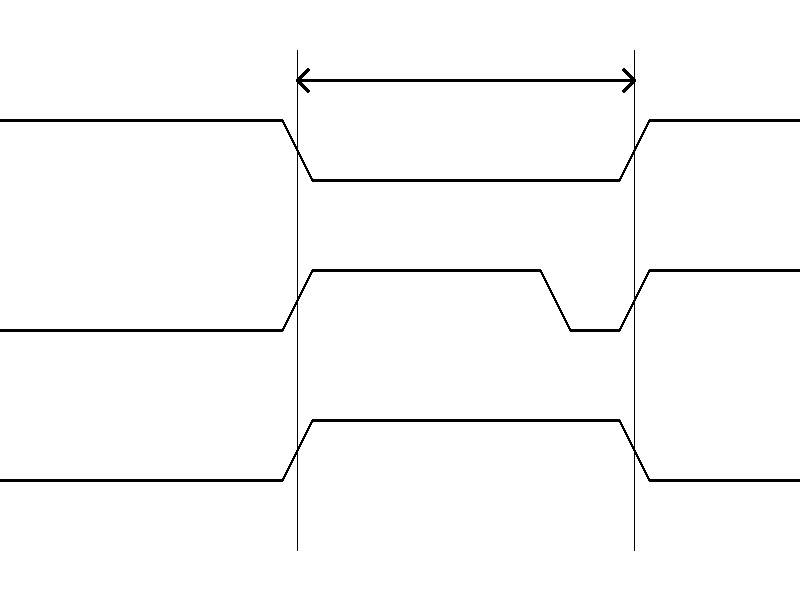double_arrow: (297, 65, 634, 95)
